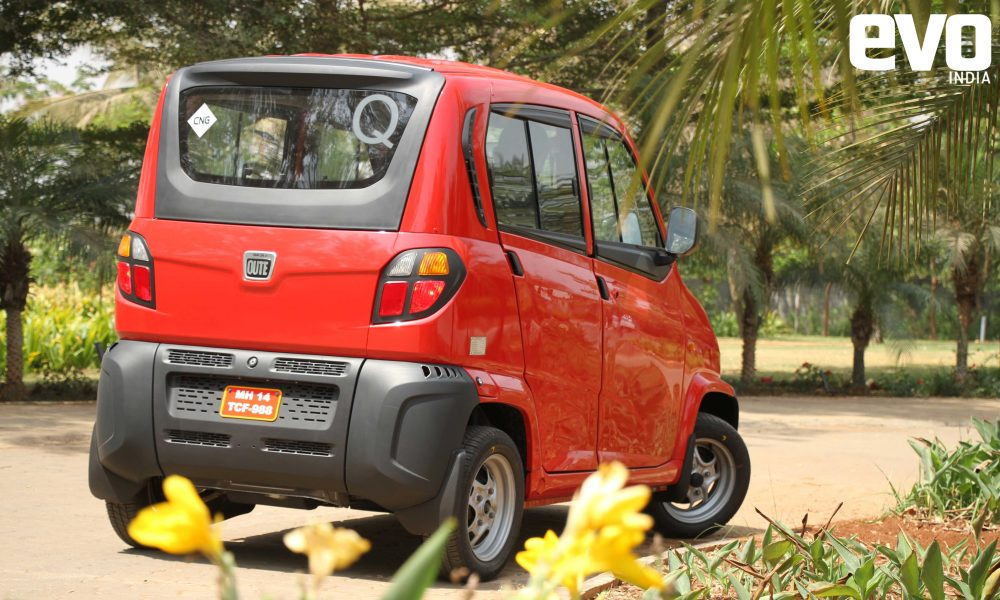number_plate: (214, 380, 290, 428)
